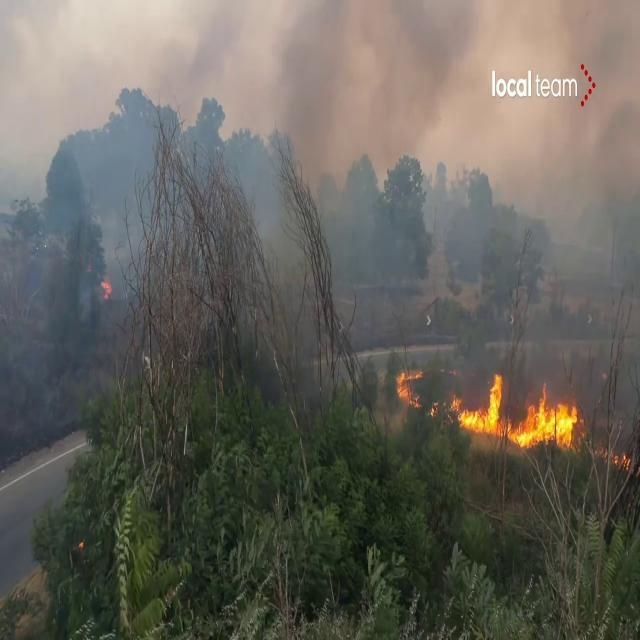Fire: (450, 362, 584, 452), (392, 360, 428, 414)
Smoke: (128, 0, 640, 328)
